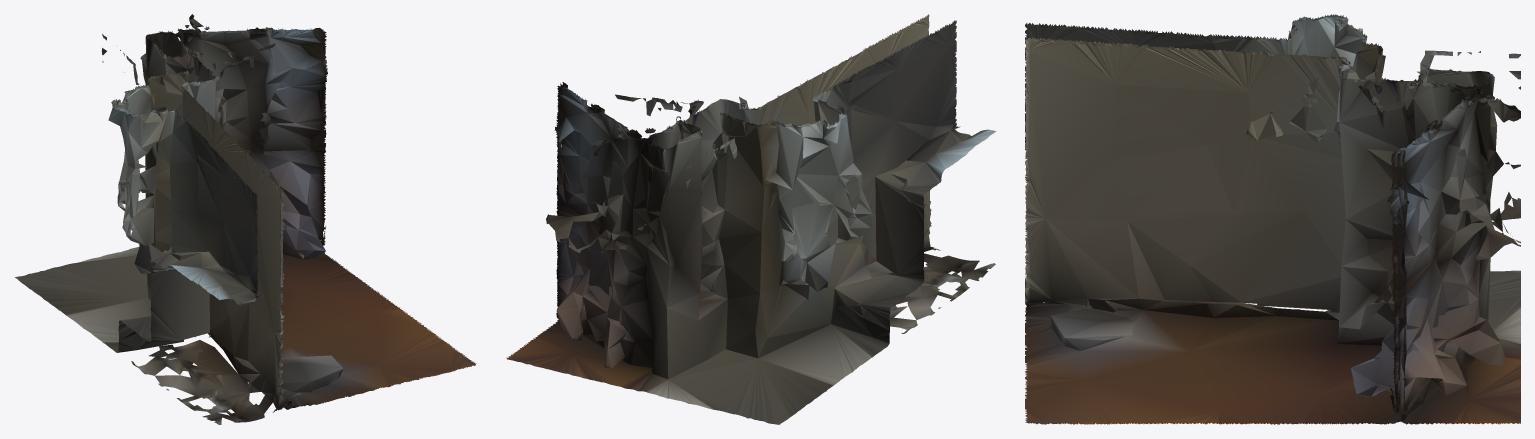
File: coarse.glb
The picture shows the model from 3 angles, left to right: view 1: azimuth 30°, elevation 25°; view 2: azimuth 150°, elevation 25°; view 3: azimuth 270°, elevation 25°; orthographic projection. The views are drawn at different scales.
Bounding box in the file's own units: 1.37 × 1.15 × 1.89.
